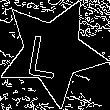L_N: (33, 24, 72, 80)
